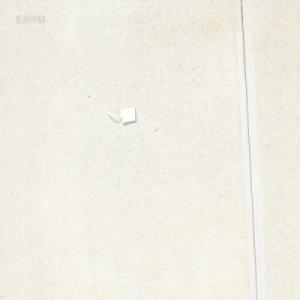LuggageTag: (106, 106, 136, 123)
